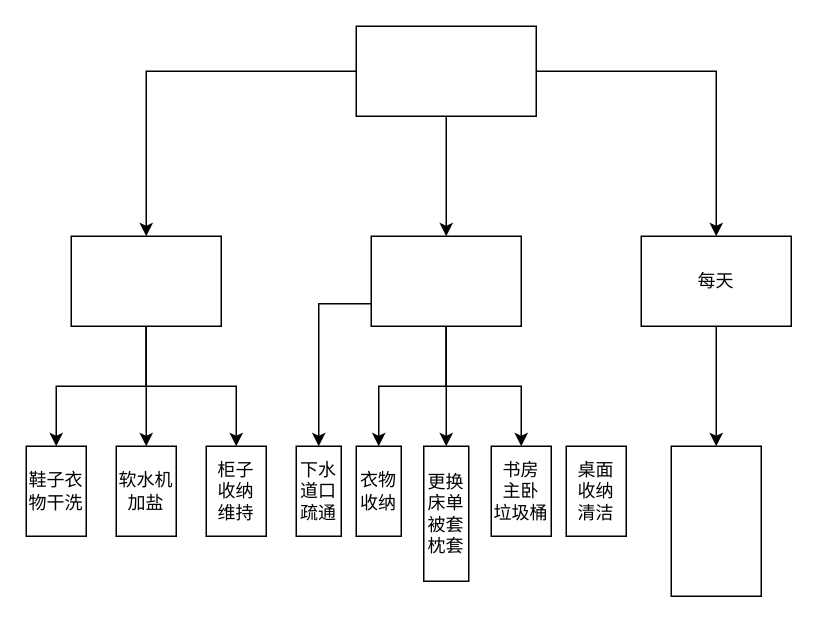
This 818x623 diagram has some shape labels left out. Each missing label, with the centre of its shape:
周度: the point at 445,280
家庭环境运维: the point at 445,70
年年刷牙四件套： 漱口杯 刷牙杯 喝水杯 牙刷: the point at 715,520
月度: the point at 145,280
